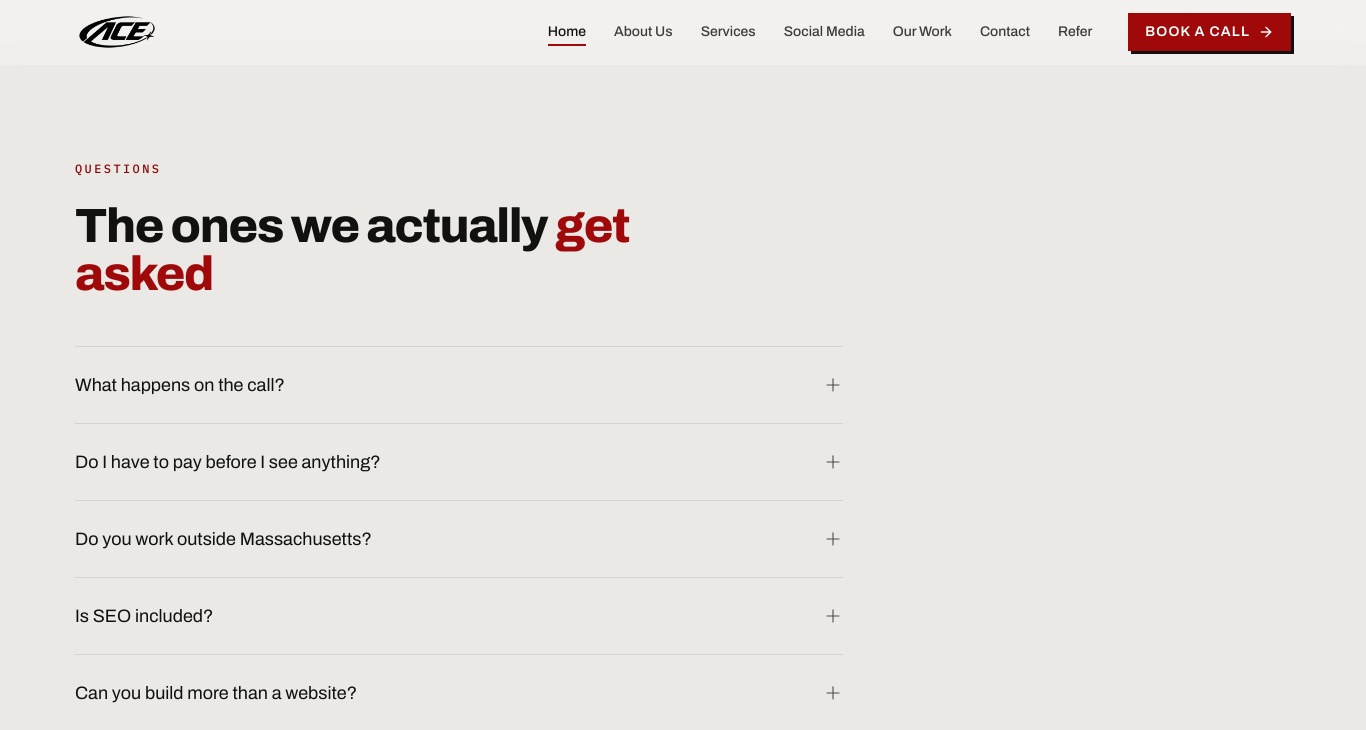
it: App routing + chrome › renders the FAQ and expands an answer when clicked
(page scrolled)
Step 1. Click the button "What happens on the call?" → point(180, 385), box [75, 347, 843, 423]
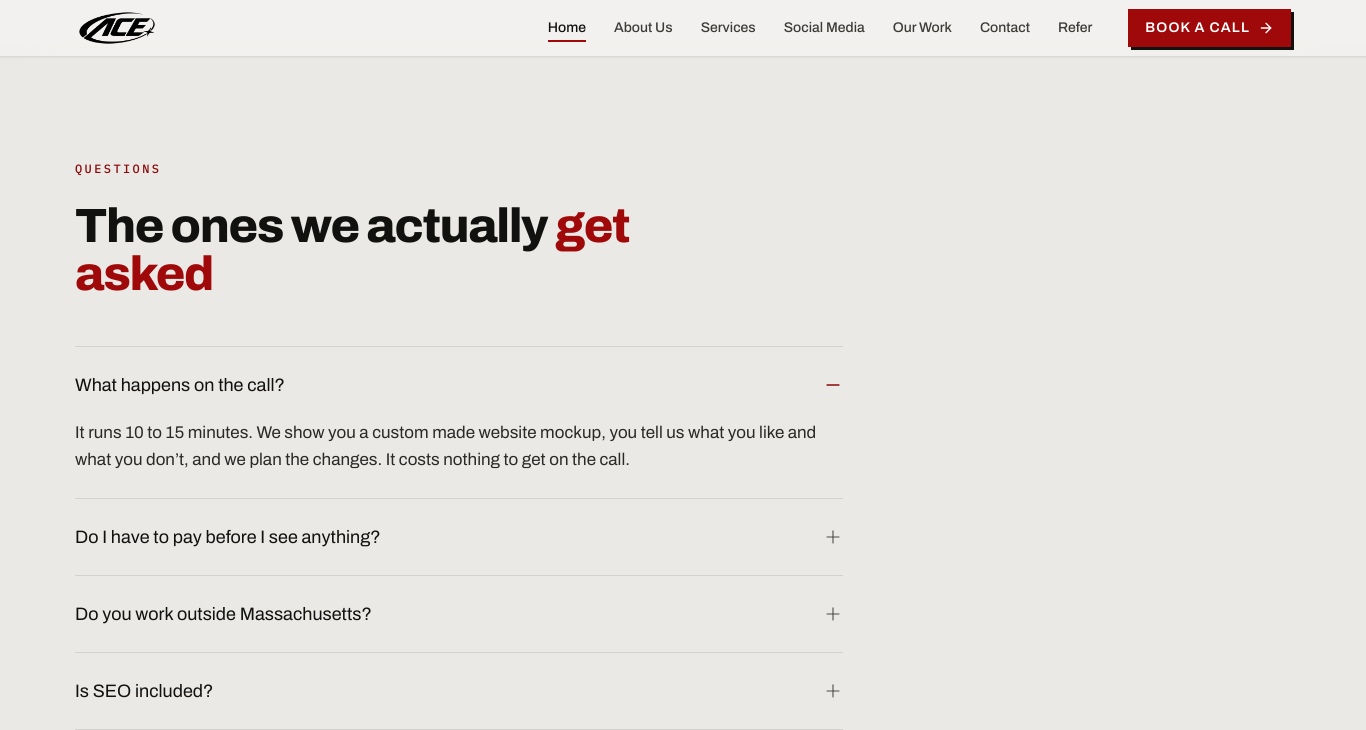
Now the text "It runs 10 to 15 minutes" is shown, box [75, 423, 816, 469]
